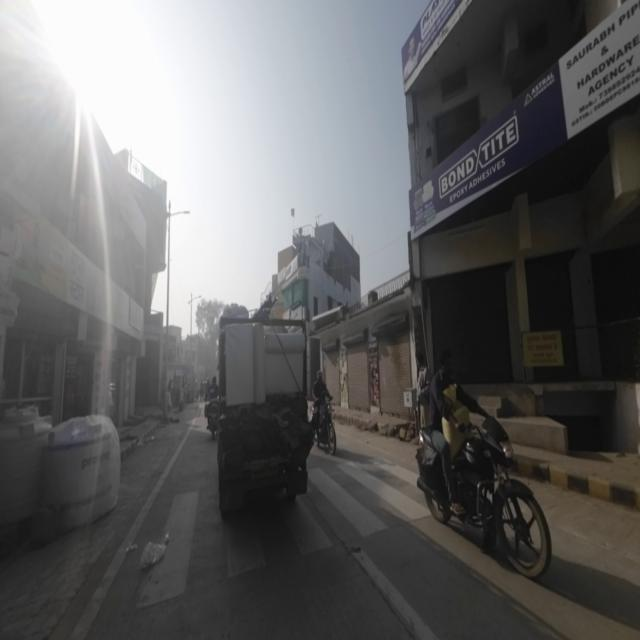Garbage: (136, 529, 169, 575)
